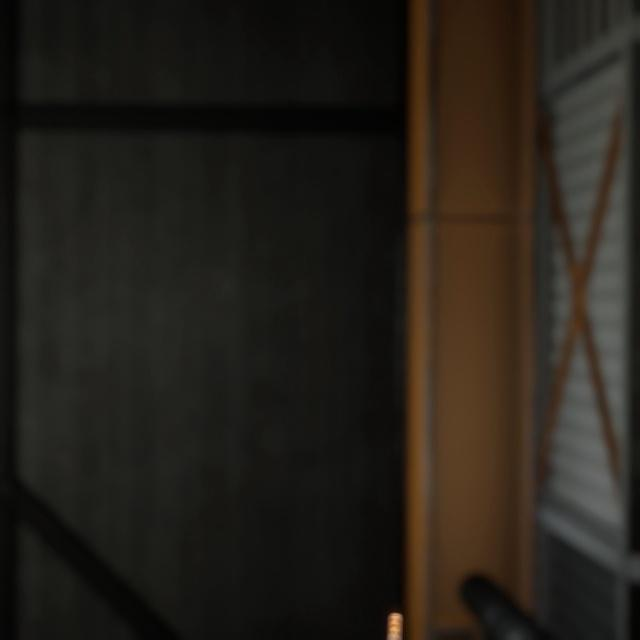bolt: (380, 585, 408, 640)
